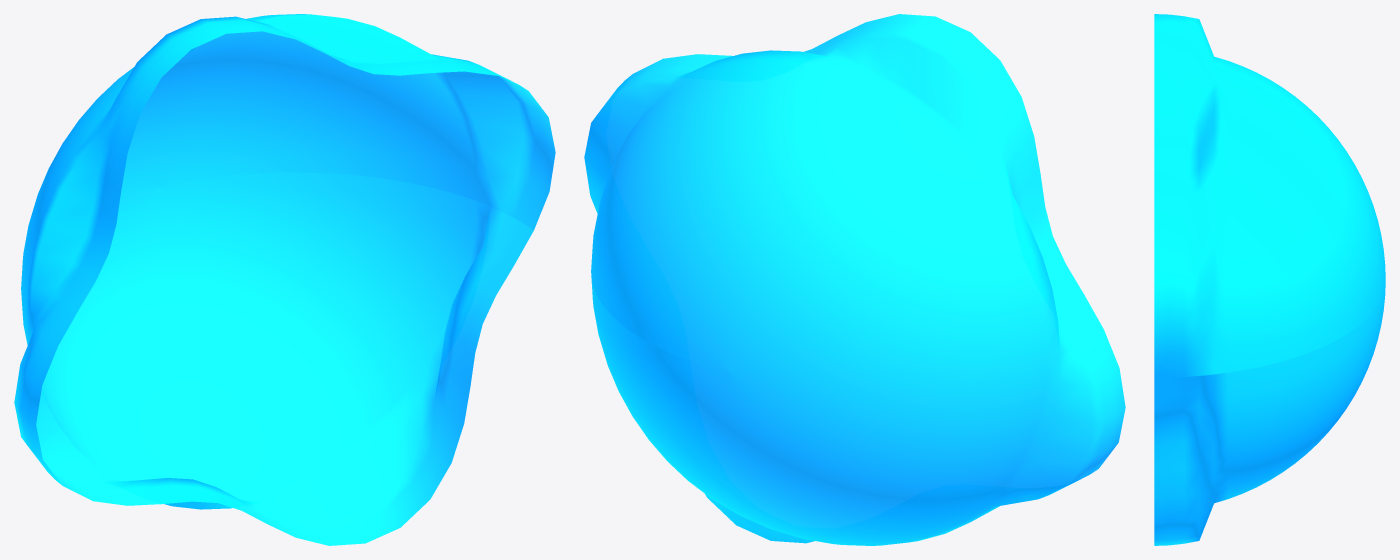
Rendered from singleton_set_ultra-hd_fallback_1767365412035.glb.
3 views of the same model, side by side, from view 1: azimuth 30°, elevation 25°; view 2: azimuth 150°, elevation 25°; view 3: azimuth 270°, elevation 25° (orthographic). The views are drawn at different scales.
Visible parts, largest first — view 1: MathShape; view 2: MathShape; view 3: MathShape.
Boxes of the visible parts, x1,y1,x2,y2 form: MathShape: (14,14,555,545); MathShape: (584,14,1125,545); MathShape: (1154,14,1385,545).
Size of the model in its own units: 1.09 by 1.09 by 0.5.
1 material, 1 textured.
